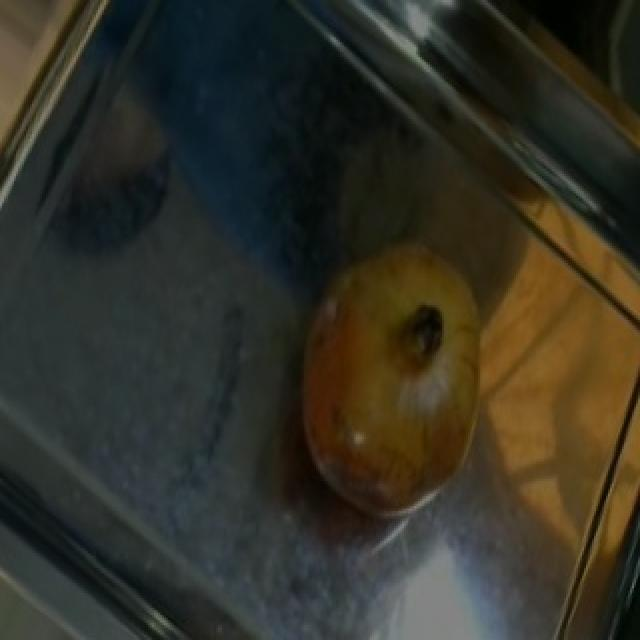fruit: (268, 268, 516, 548)
